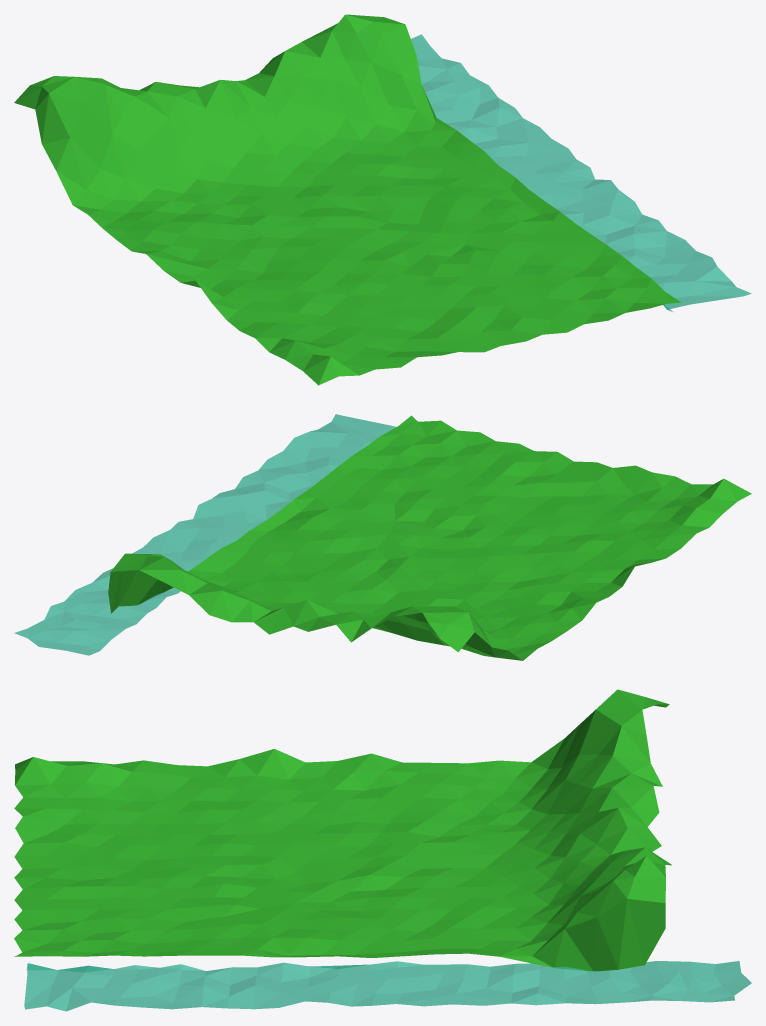
File: river.FBX
The picture shows the model from 3 angles, top to bottom: view 1: azimuth 30°, elevation 25°; view 2: azimuth 150°, elevation 25°; view 3: azimuth 270°, elevation 25°; orthographic projection. The views are drawn at different scales.
Visible parts, largest first — view 1: Object052, river001; view 2: Object052, river001; view 3: Object052, river001.
Boxes of the visible parts, bbox=[...] form: Object052: bbox=[14, 14, 680, 385]; river001: bbox=[411, 34, 751, 312]; Object052: bbox=[108, 415, 751, 660]; river001: bbox=[14, 414, 396, 655]; Object052: bbox=[14, 689, 671, 971]; river001: bbox=[24, 961, 751, 1011].
Bounding box in the file's own units: 220 × 46.81 × 296.
